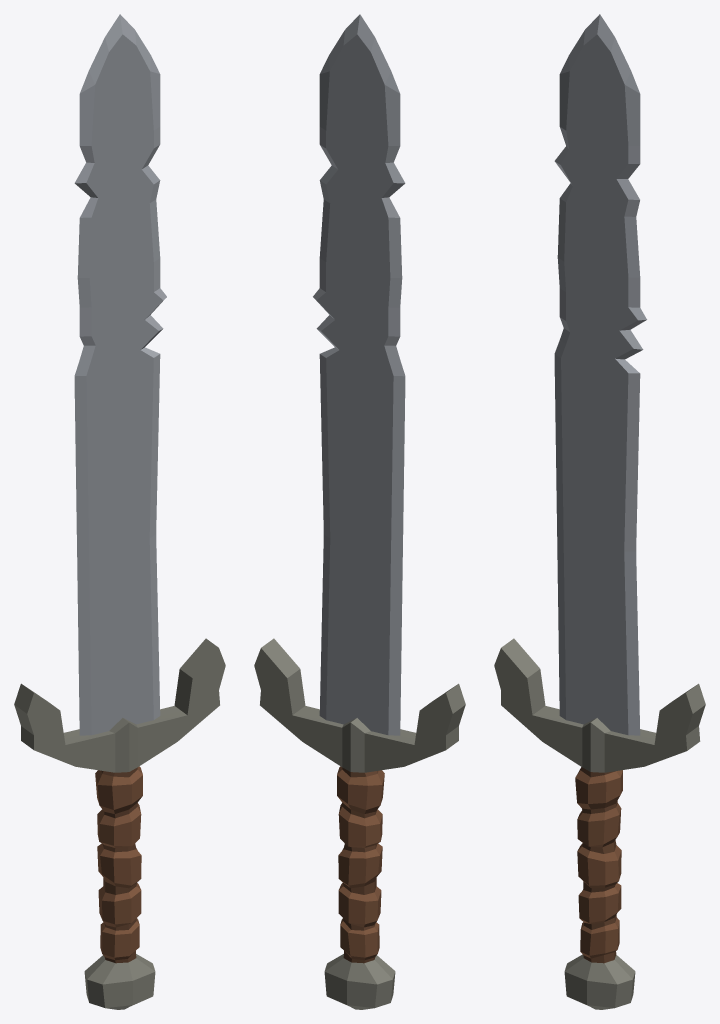
File: w_sword.glb
3 views of the same model, side by side, from view 1: azimuth 30°, elevation 25°; view 2: azimuth 150°, elevation 25°; view 3: azimuth 330°, elevation 25° (orthographic).
Visible parts, largest first — view 1: Sword; view 2: Sword; view 3: Sword.
Part boxes in pixels (bbox=[...]): Sword: bbox=[14, 14, 225, 1009]; Sword: bbox=[254, 14, 465, 1009]; Sword: bbox=[494, 14, 705, 1009].
Size of the model in its own units: 1.14 by 5.45 by 0.2609.
